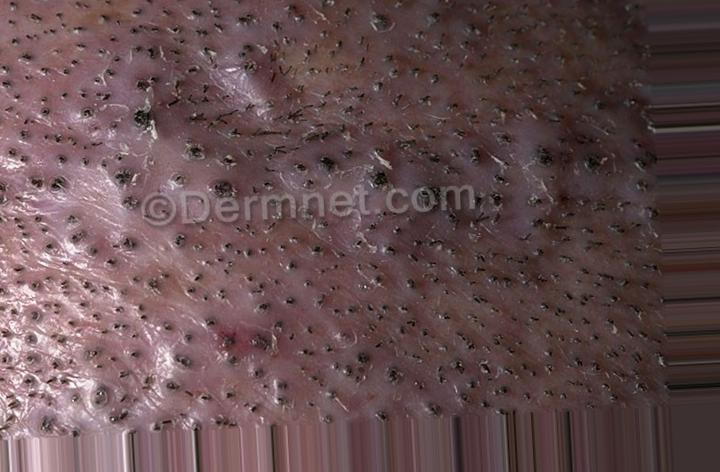Folliculitis: (22, 7, 550, 152)
